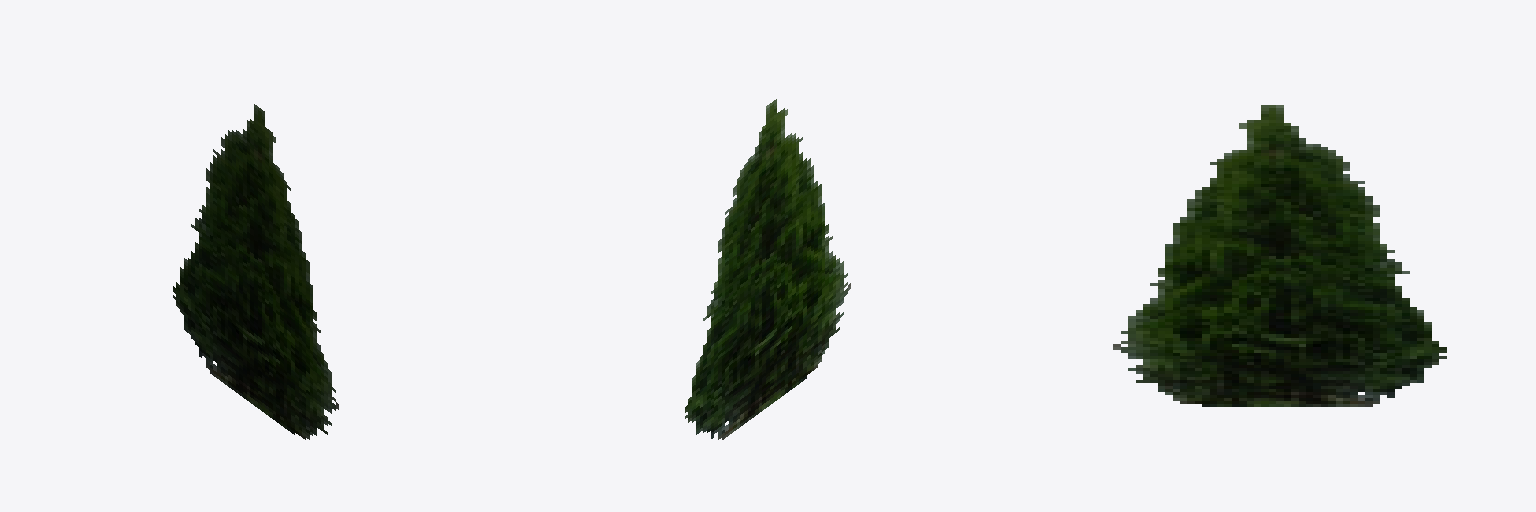
3 renders of one model, left to right at view 1: azimuth 30°, elevation 25°; view 2: azimuth 150°, elevation 25°; view 3: azimuth 270°, elevation 25°, orthographic.
Parts seen in each view (by area): view 1: Plane; view 2: Plane; view 3: Plane.
Boxes of the visible parts, <box> form: Plane: <box>173,104,338,439</box>; Plane: <box>685,99,850,439</box>; Plane: <box>1113,105,1446,406</box>.
Size of the model in its own units: 0 by 2 by 2.
Materials: 1 (1 with a texture image).